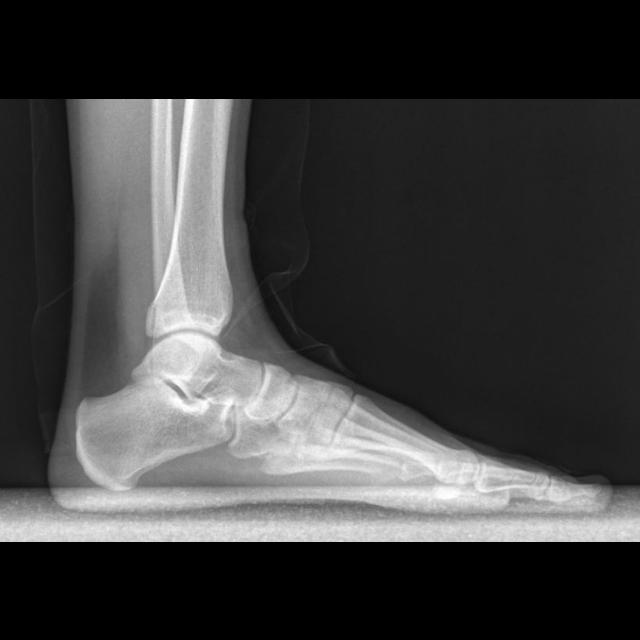a: (76, 374, 234, 489)
b: (244, 362, 298, 428)
c: (332, 391, 478, 499)
